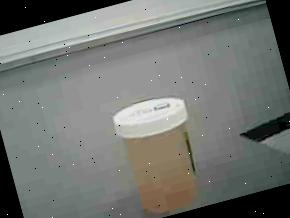Bottle B: (91, 81, 215, 218)
